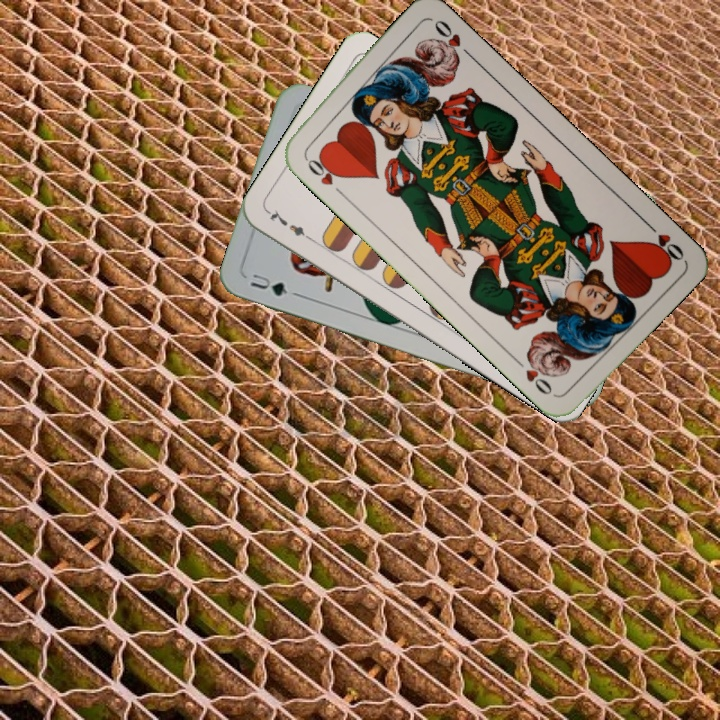E7: (264, 206, 317, 244)
GU: (246, 269, 300, 299)
HO: (640, 216, 687, 266), (299, 150, 346, 198)
